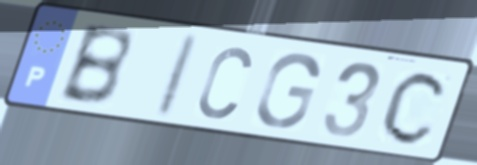3: (320, 59, 383, 140)
B: (54, 23, 134, 109)
C: (378, 67, 453, 147), (194, 42, 255, 122)
G: (253, 51, 323, 131)
I: (148, 30, 205, 122)
